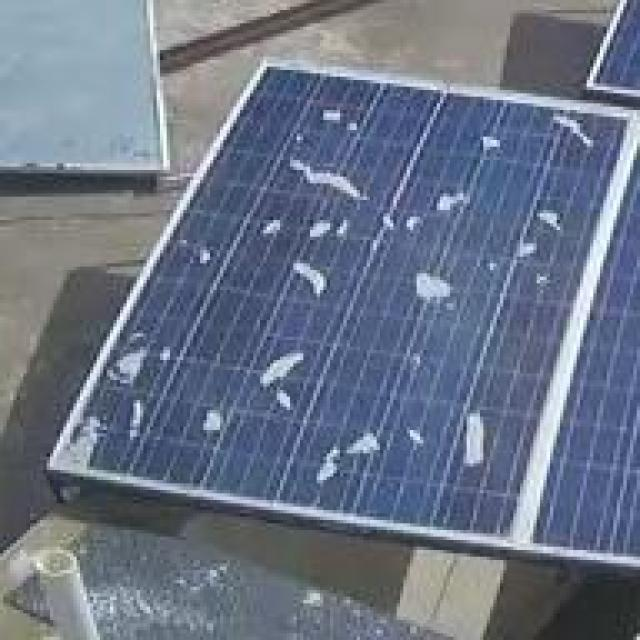Anomaly Solar Panel: (53, 0, 625, 589)
Snow: (482, 184, 576, 289), (301, 411, 396, 488), (370, 176, 474, 246), (282, 147, 377, 213), (44, 403, 114, 484), (98, 335, 161, 399), (251, 345, 311, 412), (543, 100, 602, 157), (445, 407, 496, 472), (294, 207, 357, 259), (282, 249, 338, 305), (316, 97, 366, 133), (121, 388, 151, 444), (411, 267, 450, 308), (477, 130, 506, 155), (200, 406, 223, 434)
